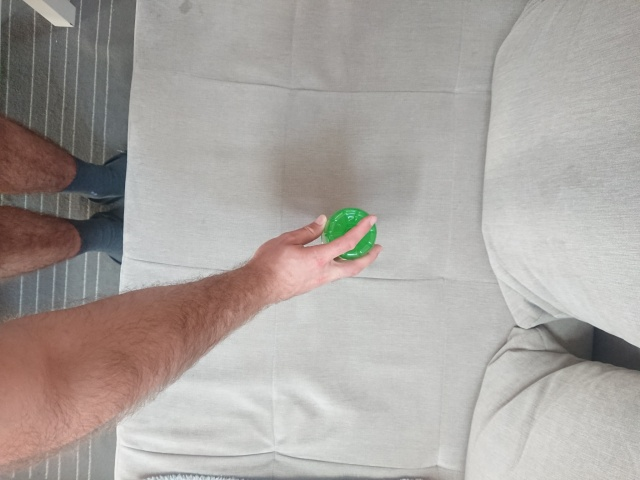Vindi Iso Sport Lemon-Grapefruit 500mL: (321, 205, 379, 262)
